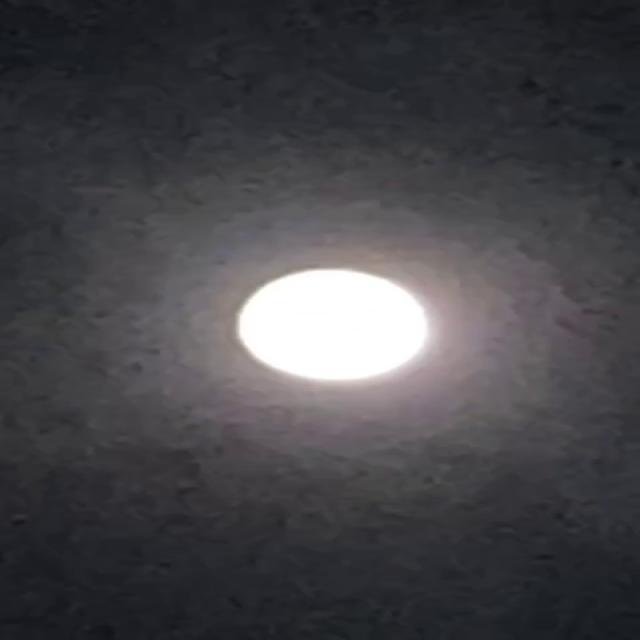moon: (221, 255, 459, 399)
